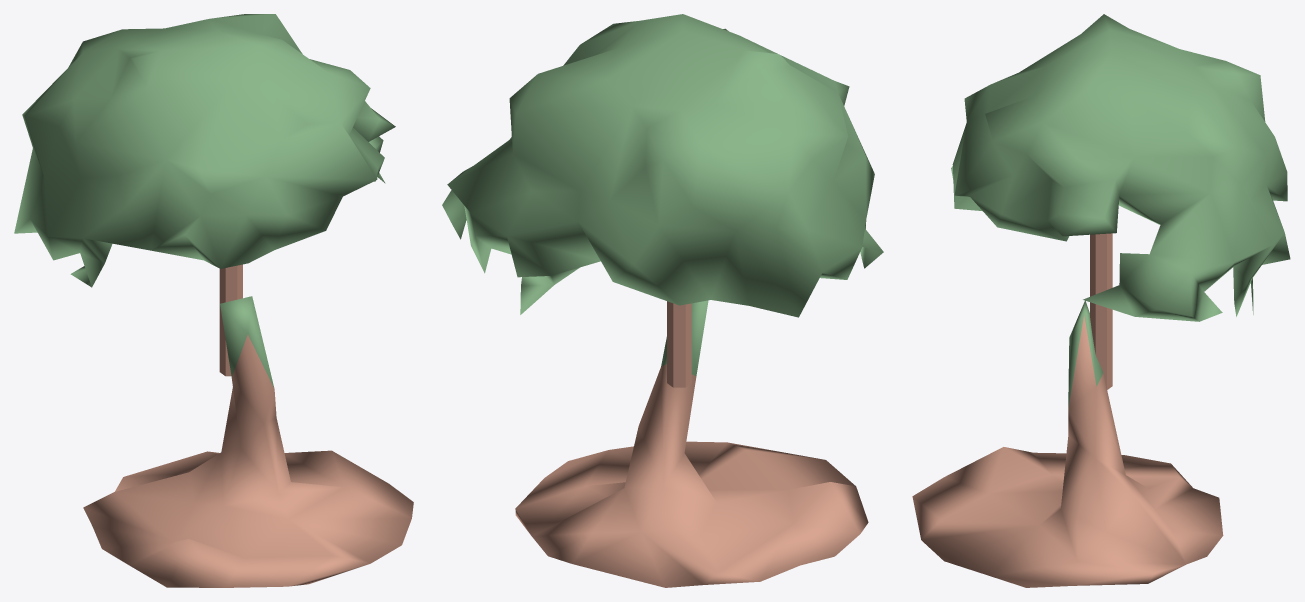
The picture shows the model from 3 angles, left to right: view 1: azimuth 30°, elevation 25°; view 2: azimuth 150°, elevation 25°; view 3: azimuth 270°, elevation 25°; orthographic projection. The views are drawn at different scales.
Parts seen in each view (by area): view 1: 잎이 넓은 작은 나무, Canopy trunk connection; view 2: 잎이 넓은 작은 나무, Canopy trunk connection; view 3: 잎이 넓은 작은 나무, Canopy trunk connection.
Boxes of the visible parts, x1,y1,x2,y2 form: 잎이 넓은 작은 나무: (14,14,413,587); Canopy trunk connection: (219,264,242,376); 잎이 넓은 작은 나무: (442,14,883,587); Canopy trunk connection: (667,301,691,387); 잎이 넓은 작은 나무: (912,14,1290,587); Canopy trunk connection: (1090,233,1112,390).
Size of the model in its own units: 1.24 by 1.6 by 1.16.
1 material, 1 textured.
